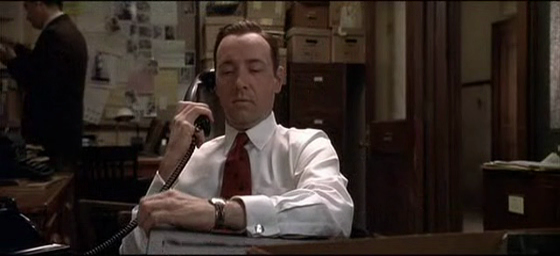face: (216, 44, 274, 124)
mcu: (1, 1, 560, 256)
person: (118, 18, 354, 254)
